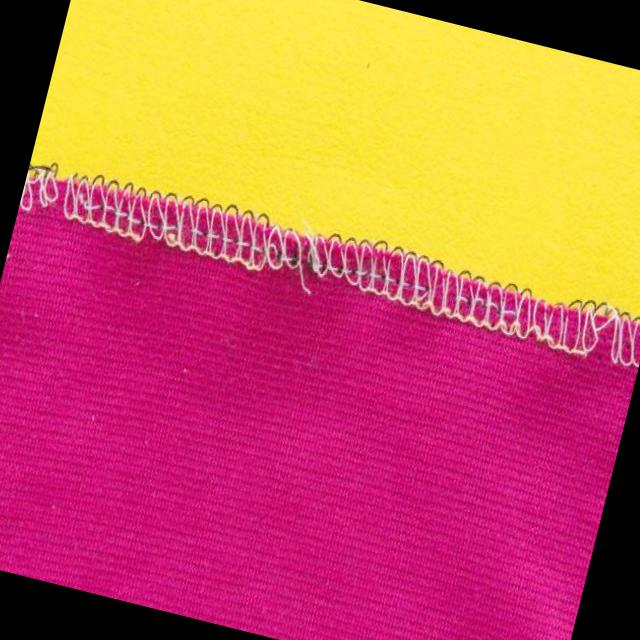gray stitch: (16, 148, 640, 378)
